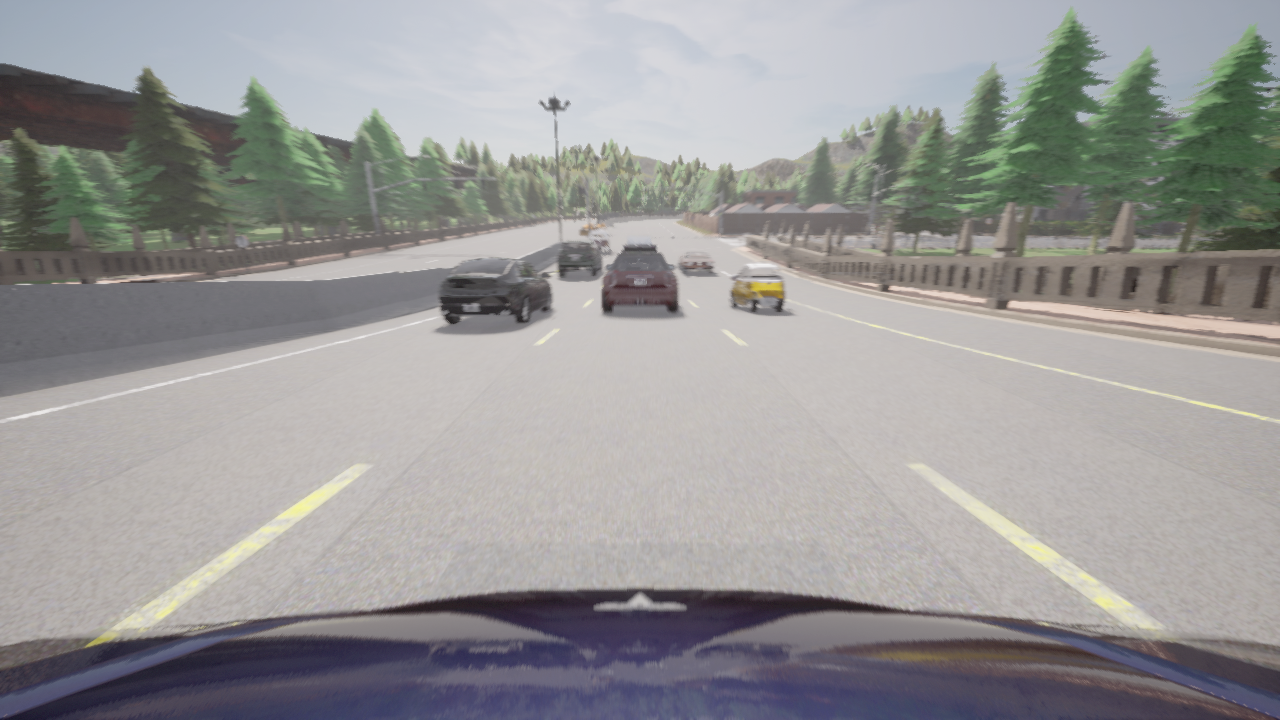cyclist: (0, 588, 1279, 719), (437, 257, 551, 323), (602, 251, 677, 311), (730, 263, 784, 312), (558, 239, 601, 276), (678, 250, 714, 273), (622, 235, 656, 252), (589, 229, 611, 252)
